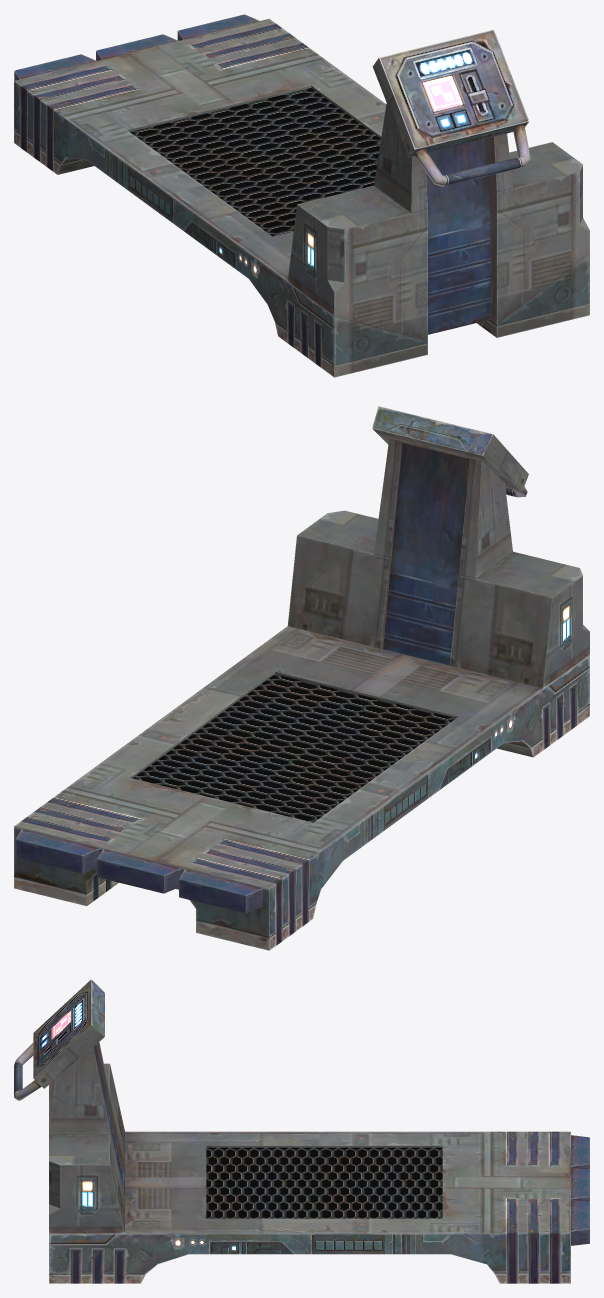
The model's file is all_item_tech_hover_cart.glb.
The picture shows the model from 3 angles, top to bottom: view 1: azimuth 30°, elevation 25°; view 2: azimuth 150°, elevation 25°; view 3: azimuth 270°, elevation 25°; orthographic projection. The views are drawn at different scales.
Visible parts, largest first — view 1: all_item_tech_hover_cart; view 2: all_item_tech_hover_cart; view 3: all_item_tech_hover_cart.
Part boxes in pixels (x1,y1,x2,y2): all_item_tech_hover_cart: [14, 14, 589, 377]; all_item_tech_hover_cart: [14, 406, 589, 950]; all_item_tech_hover_cart: [14, 979, 589, 1283].
Size of the model in its own units: 0.1598 by 0.1696 by 0.383.
Materials: 1 (1 with a texture image).
